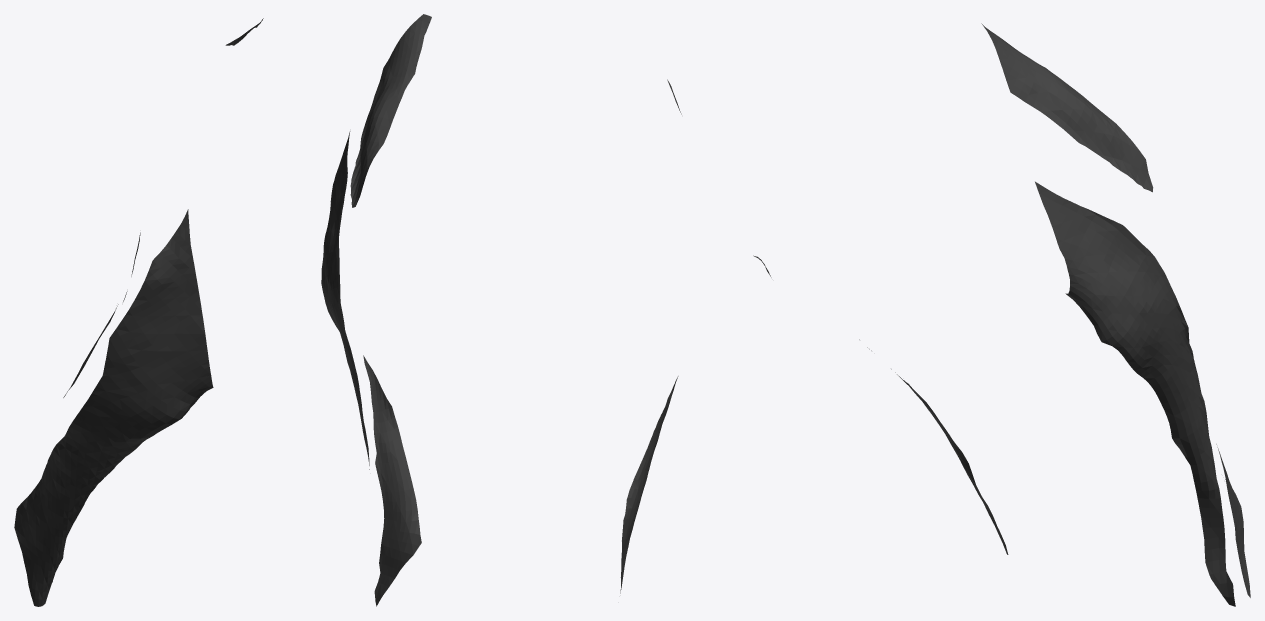
Rendered from eq_dist_limb_Ext_Branch_Interosseus.glb.
The picture shows the model from 3 angles, left to right: view 1: azimuth 30°, elevation 25°; view 2: azimuth 150°, elevation 25°; view 3: azimuth 270°, elevation 25°; orthographic projection. The views are drawn at different scales.
Parts seen in each view (by area): view 1: eq_dist_limb_Ext_Branch_Interosseus; view 2: eq_dist_limb_Ext_Branch_Interosseus; view 3: eq_dist_limb_Ext_Branch_Interosseus.
Boxes of the visible parts, bbox=[...] form: eq_dist_limb_Ext_Branch_Interosseus: bbox=[14, 18, 263, 606]; eq_dist_limb_Ext_Branch_Interosseus: bbox=[321, 14, 681, 606]; eq_dist_limb_Ext_Branch_Interosseus: bbox=[753, 23, 1250, 606].
Size of the model in its own units: 0.00864 by 0.0155 by 0.0108.
1 material, 1 textured.
